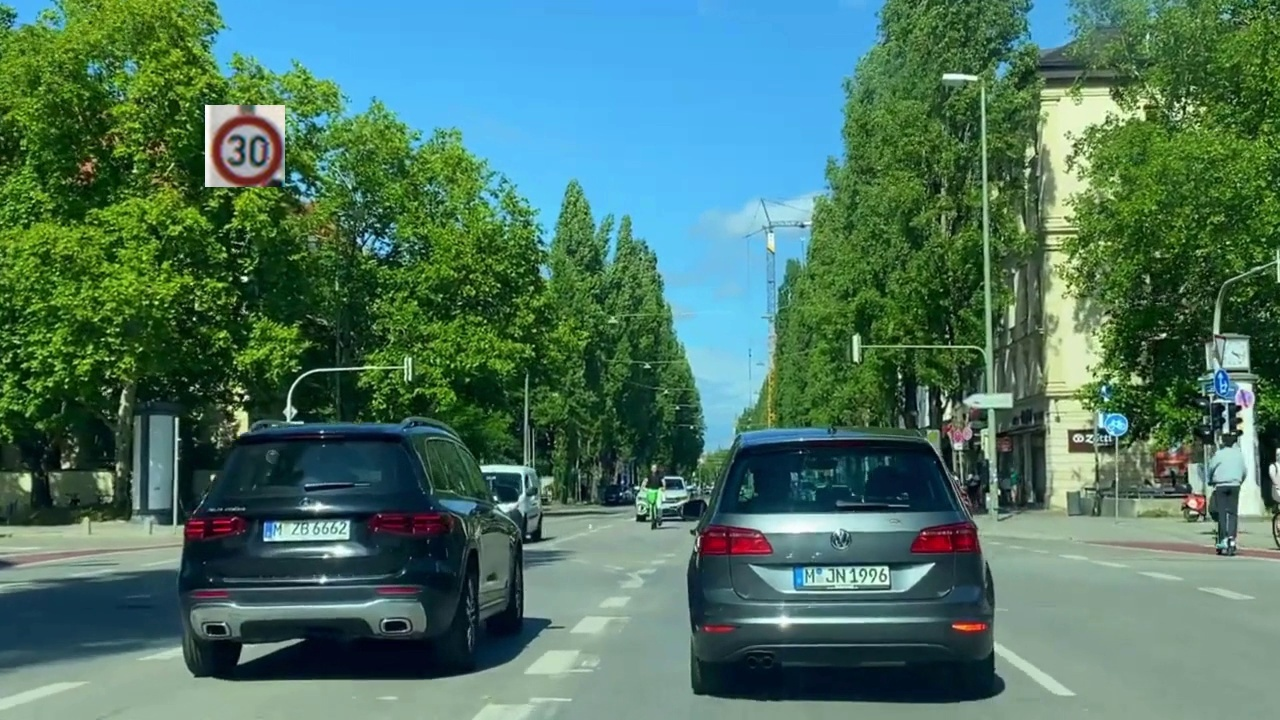Speed 30: (205, 105, 285, 187)
